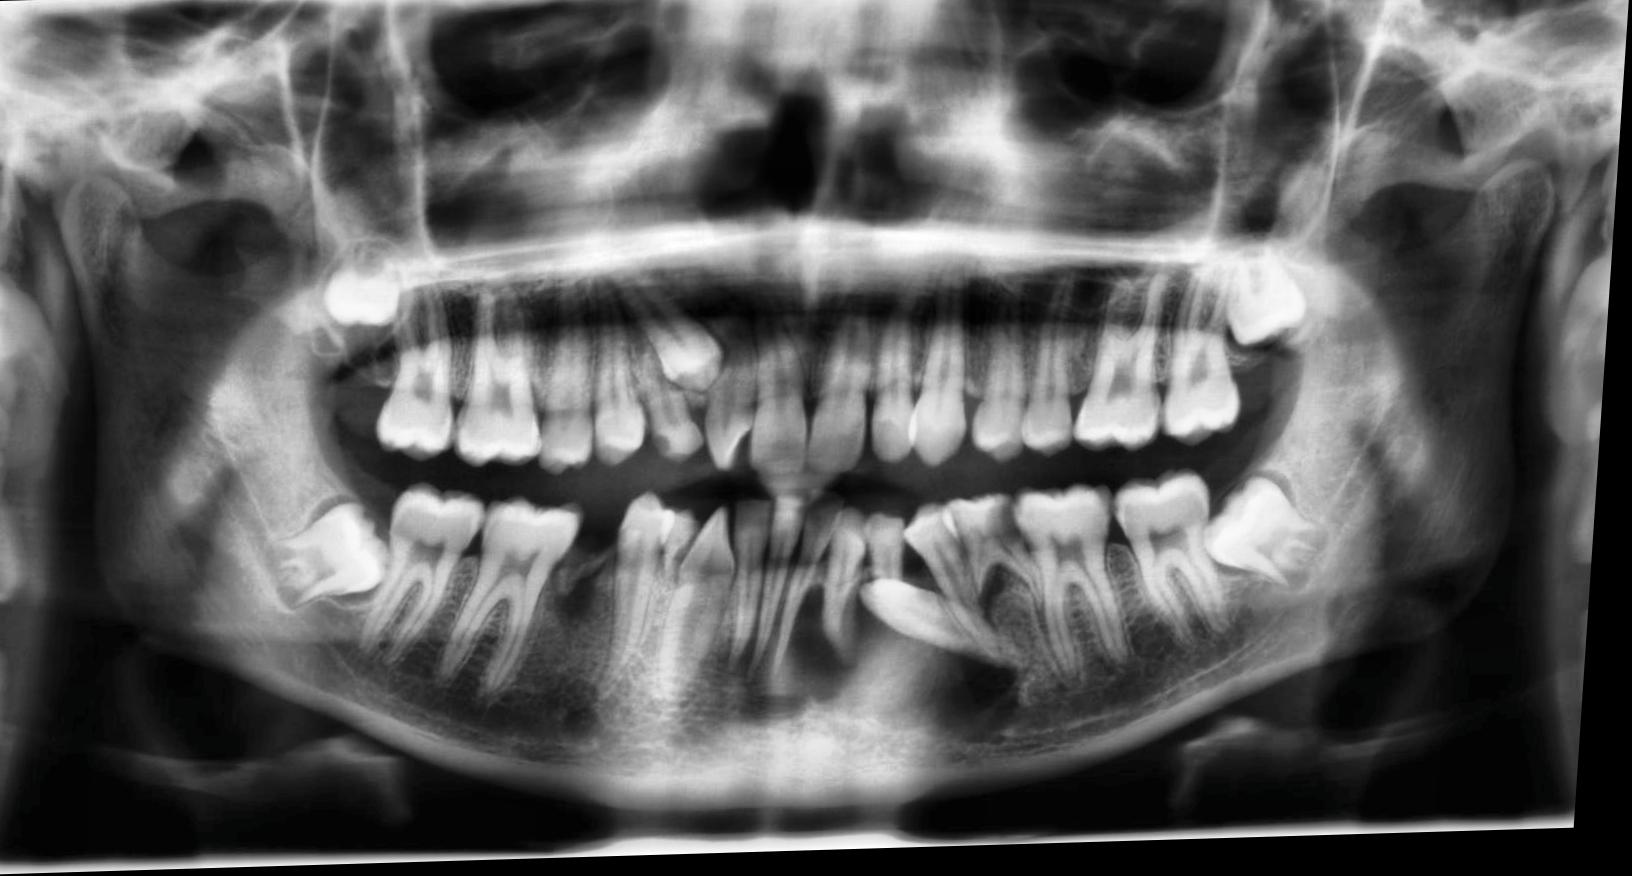dentigerous: (705, 576, 1037, 756)
